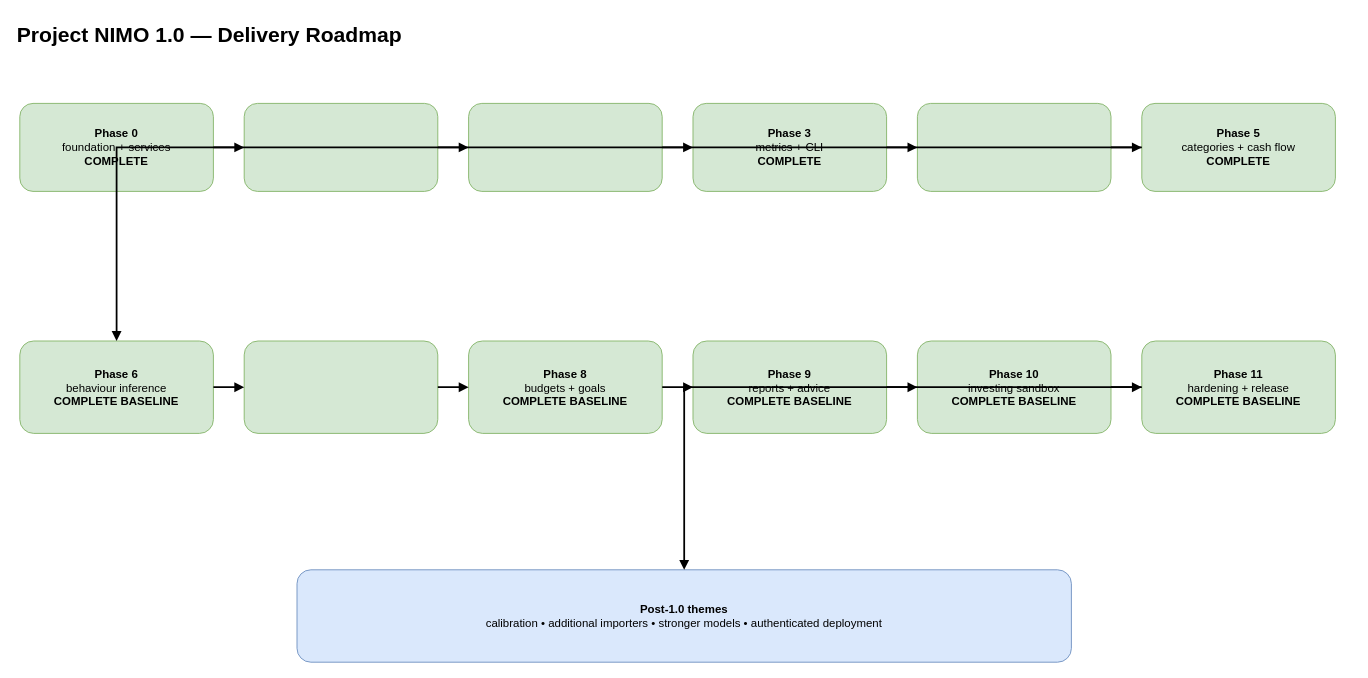
This 1368x678 diagram has some shape labels left out. Here are the shapes that lost their labels. From the top down, the centre of each, then its label:
the point at 340,147: Phase 1 database + import COMPLETE
the point at 565,147: Phase 2 seeded generator COMPLETE
the point at 1014,147: Phase 4 dashboard + layouts COMPLETE
the point at 340,386: Phase 7 forecasting + scenarios COMPLETE BASELINE
